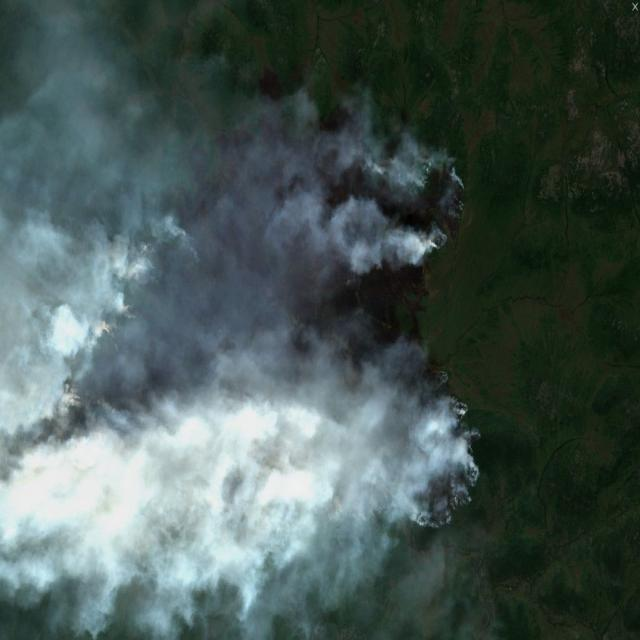fire: (70, 153, 483, 536)
